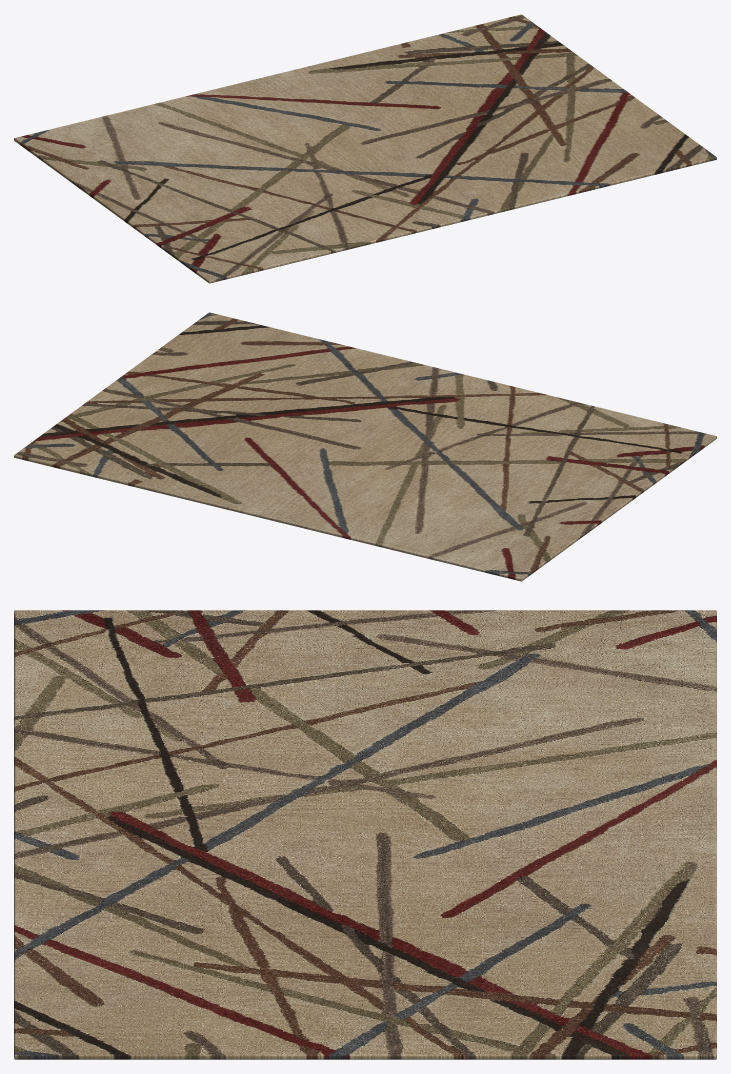
Rendered from rug-area.glb.
3 views of the same model, one above another, from view 1: azimuth 30°, elevation 25°; view 2: azimuth 150°, elevation 25°; view 3: azimuth 270°, elevation 25° (orthographic). The views are drawn at different scales.
Parts seen in each view (by area): view 1: C-Component#2; view 2: C-Component#2; view 3: C-Component#2.
Part boxes in pixels (<box>): C-Component#2: <box>14,14,716,283</box>; C-Component#2: <box>14,312,716,581</box>; C-Component#2: <box>14,610,716,1059</box>.
Size of the model in its own units: 1.83 by 0.0101 by 1.22.
1 material, 1 textured.
